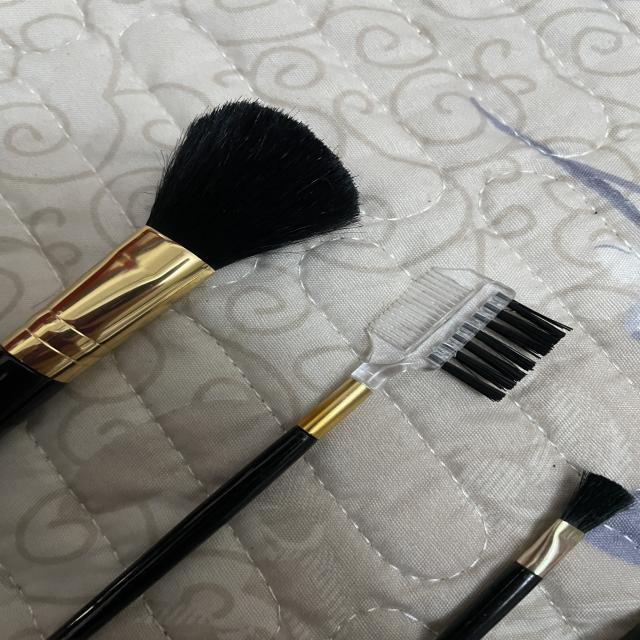brush: (0, 86, 380, 356), (281, 252, 591, 436), (415, 449, 640, 640)
